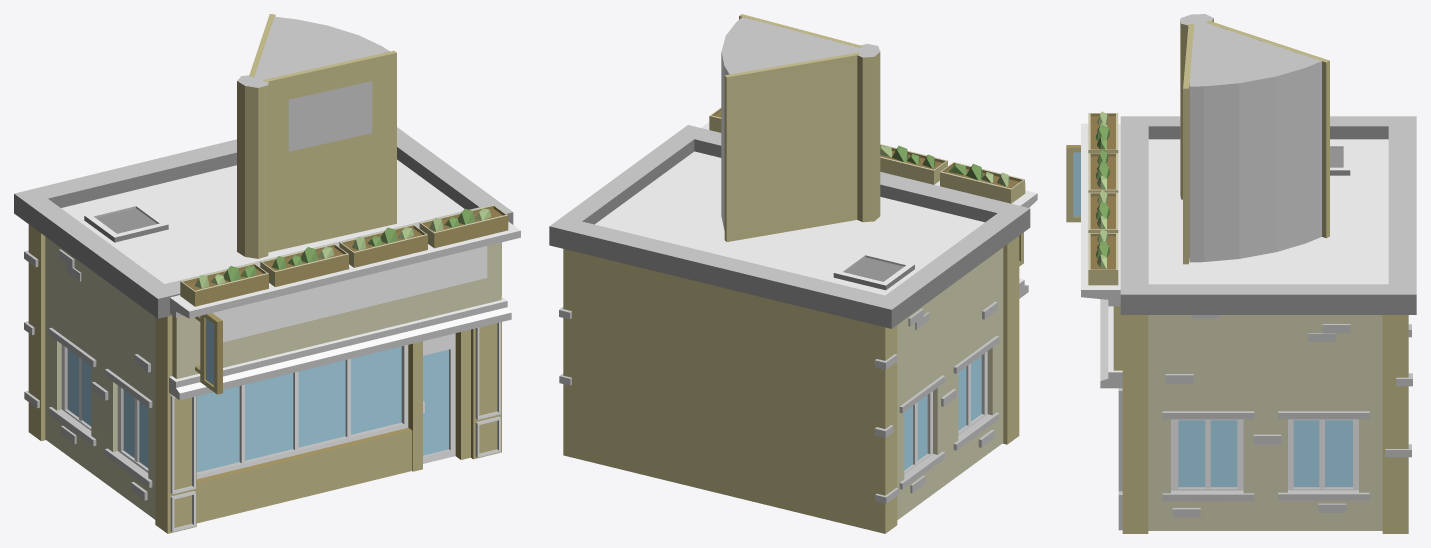
Rendered from services_store_003.fbx.
The picture shows the model from 3 angles, left to right: view 1: azimuth 30°, elevation 25°; view 2: azimuth 150°, elevation 25°; view 3: azimuth 270°, elevation 25°; orthographic projection. The views are drawn at different scales.
Parts seen in each view (by area): view 1: services_store_003; view 2: services_store_003; view 3: services_store_003.
Part boxes in pixels (x1,y1,x2,y2): services_store_003: (14, 14, 520, 533); services_store_003: (549, 14, 1037, 533); services_store_003: (1066, 14, 1416, 533).
Size of the model in its own units: 705 by 751 by 585.
